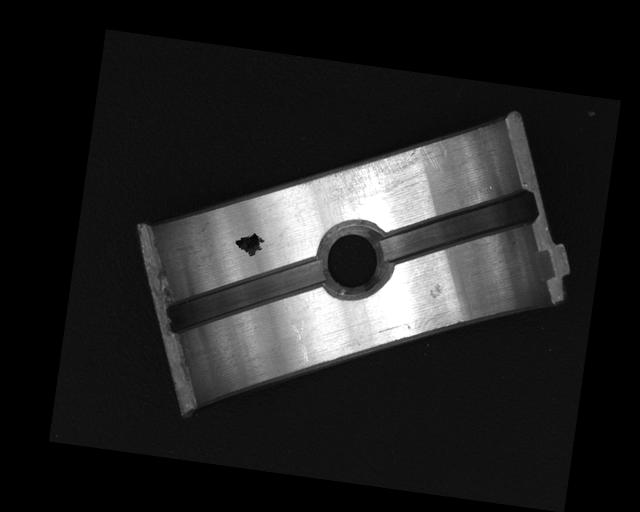blot: (232, 229, 267, 259)
bruise: (426, 282, 443, 301)
gap: (165, 239, 325, 350), (380, 172, 539, 277)
hole: (316, 215, 393, 303)
nick: (280, 313, 314, 363)
scratch: (312, 123, 446, 221)
